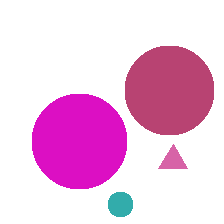circle: (32, 94, 126, 188), (125, 46, 213, 134), (108, 192, 132, 216)
triangle: (158, 144, 187, 168)
